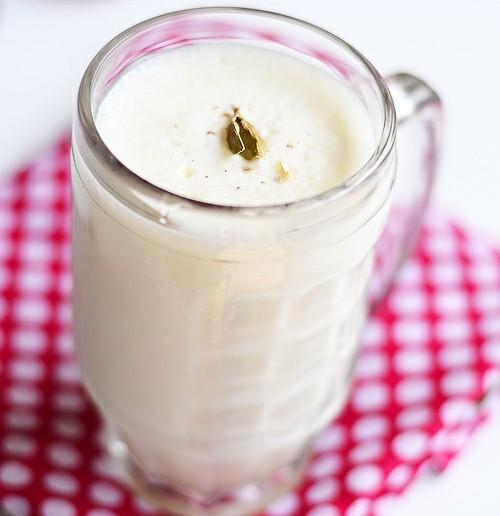Lassi: (73, 39, 384, 477)
